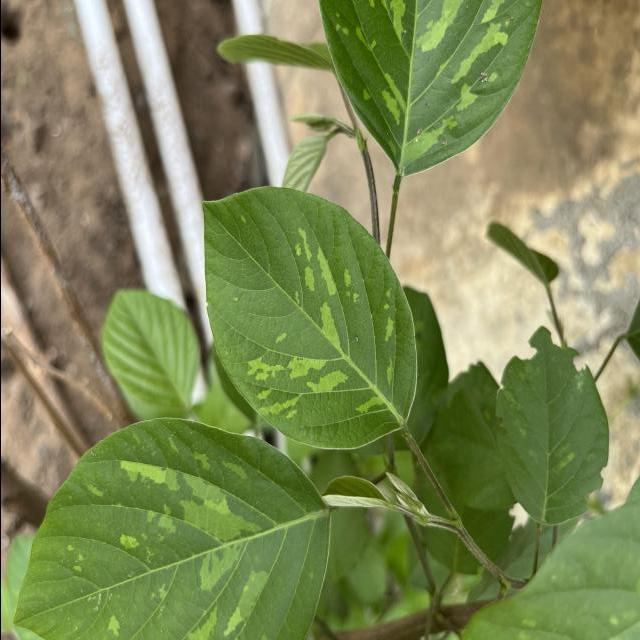Desmodium gangeticum: (9, 415, 332, 640), (197, 183, 420, 455)
